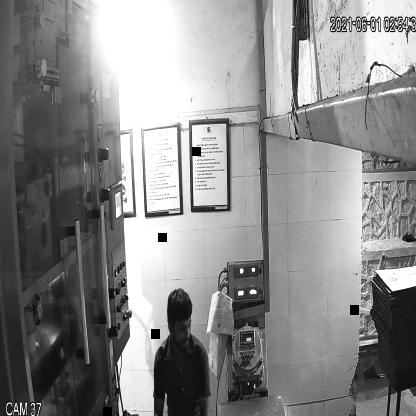no_goggles: (167, 314, 194, 338)
